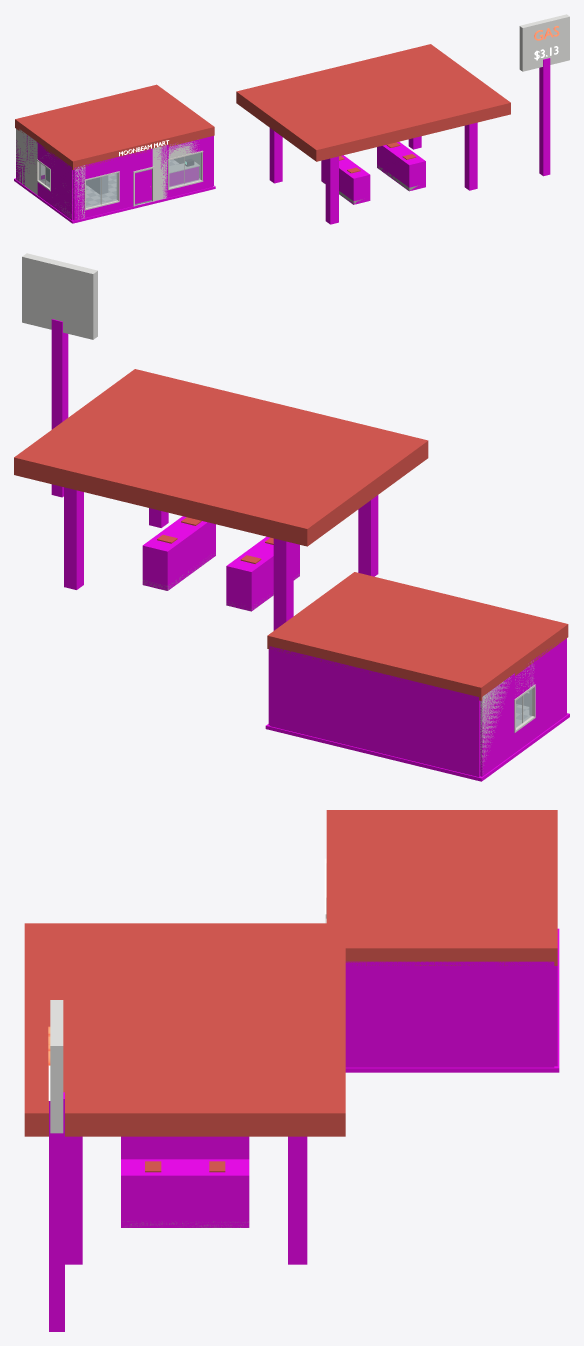
The model's file is gas_station.glb.
3 renders of one model, top to bottom at view 1: azimuth 30°, elevation 25°; view 2: azimuth 150°, elevation 25°; view 3: azimuth 270°, elevation 25°, orthographic. The views are drawn at different scales.
Visible parts, largest first — view 1: Canopy, Office_Trim, Sign_Board, COL_Island_1, Mart_Front, COL_SignPole, COL_Mart_West_3, COL_Island_0, Mart_West, Mart_Front_Trim, COL_Pillar_1_5, COL_Pillar_11_5 (+17 smaller); view 2: Canopy, Office_Trim, COL_Mart_Back_0, Sign_Board, COL_Island_1, COL_Island_0, COL_Mart_West_0, COL_Mart_West_3, COL_Pillar_11_-1, COL_SignPole, COL_Pillar_1_-1, COL_Pillar_1_5 (+2 smaller); view 3: Canopy, Office_Trim, COL_Mart_East_0, COL_Island_1, COL_SignPole, COL_Island_0, COL_Pillar_11_-1, COL_Pillar_11_5, Sign_Board, COL_Mart_Slab.
Boxes of the visible parts, x1,y1,x2,y2 form: Canopy: [236, 44, 510, 161]; Office_Trim: [15, 84, 214, 169]; Sign_Board: [519, 14, 569, 71]; COL_Island_1: [377, 142, 425, 191]; Mart_Front: [73, 141, 198, 219]; COL_SignPole: [539, 58, 550, 176]; COL_Mart_West_3: [50, 152, 73, 220]; COL_Island_0: [321, 155, 370, 204]; Mart_West: [16, 129, 73, 217]; Mart_Front_Trim: [84, 150, 203, 210]; COL_Pillar_1_5: [325, 156, 338, 224]; COL_Pillar_11_5: [464, 122, 477, 190]; Canopy: [14, 369, 428, 546]; Office_Trim: [267, 572, 568, 700]; COL_Mart_Back_0: [269, 646, 480, 776]; Sign_Board: [22, 253, 97, 339]; COL_Island_1: [142, 516, 215, 590]; COL_Island_0: [226, 536, 299, 611]; COL_Mart_West_0: [480, 673, 514, 776]; COL_Mart_West_3: [534, 638, 566, 738]; COL_Pillar_11_-1: [64, 487, 83, 589]; COL_SignPole: [51, 319, 68, 497]; COL_Pillar_1_-1: [273, 538, 293, 630]; COL_Pillar_1_5: [358, 495, 378, 576]; Canopy: [24, 923, 345, 1136]; Office_Trim: [326, 810, 557, 965]; COL_Mart_East_0: [345, 961, 554, 1067]; COL_Island_1: [121, 1159, 249, 1227]; COL_SignPole: [49, 1092, 64, 1331]; COL_Island_0: [121, 1136, 249, 1159]; COL_Pillar_11_-1: [288, 1136, 307, 1264]; COL_Pillar_11_5: [65, 1136, 82, 1264]; Sign_Board: [50, 1000, 63, 1133]; COL_Mart_Slab: [345, 928, 559, 1072].
Bounding box in the file's own units: 30.85 × 10.5 × 16.65.
